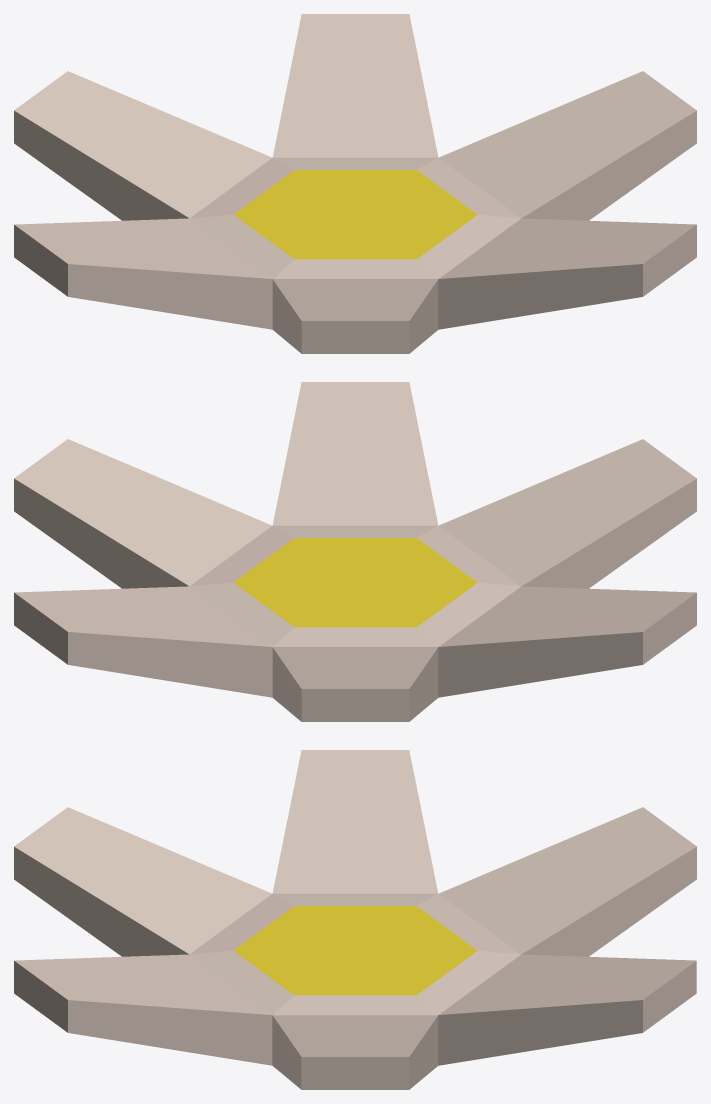
Rendered from Flower(White).fbx.
The picture shows the model from 3 angles, top to bottom: view 1: azimuth 30°, elevation 25°; view 2: azimuth 150°, elevation 25°; view 3: azimuth 270°, elevation 25°; orthographic projection.
Parts seen in each view (by area): view 1: Cylinder; view 2: Cylinder; view 3: Cylinder.
Part boxes in pixels (<box>): Cylinder: <box>14,14,696,353</box>; Cylinder: <box>14,382,696,721</box>; Cylinder: <box>14,750,696,1089</box>.
Bounding box in the file's own units: 165 × 25.53 × 156.
